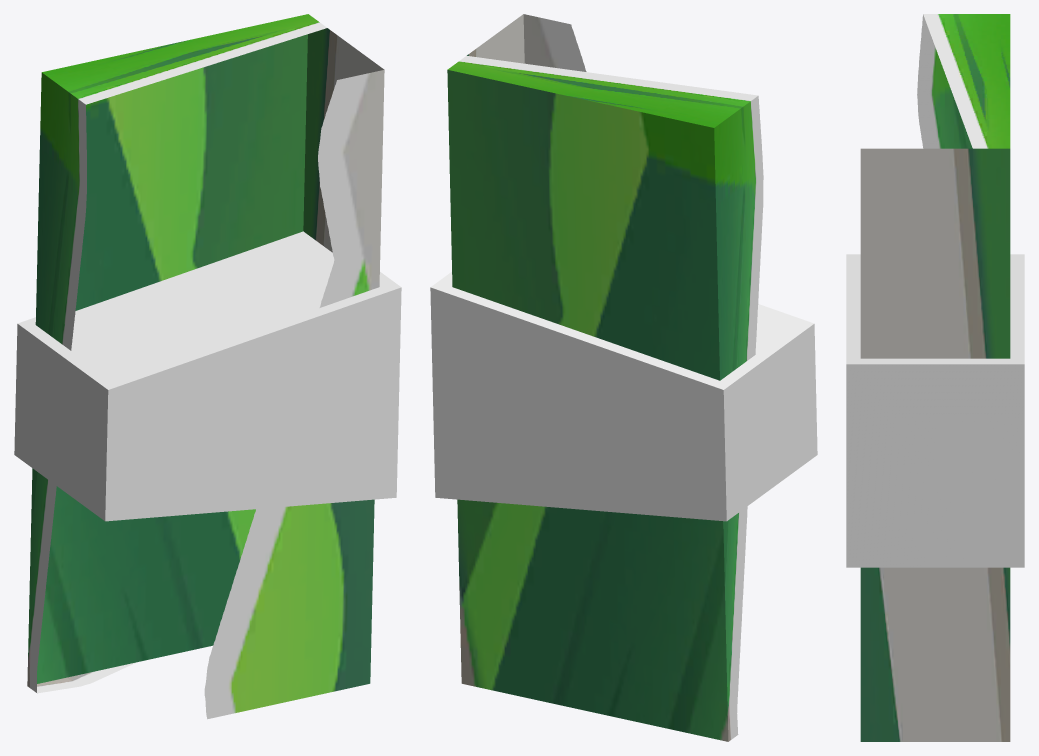
The model's file is Collectable_Coin_19.fbx.
3 renders of one model, left to right at view 1: azimuth 30°, elevation 25°; view 2: azimuth 150°, elevation 25°; view 3: azimuth 270°, elevation 25°, orthographic.
Visible parts, largest first — view 1: MoneyStack; view 2: MoneyStack; view 3: MoneyStack.
Part boxes in pixels (left/top/right/bottom): MoneyStack: left=14, top=14, right=401, bottom=719; MoneyStack: left=430, top=14, right=817, bottom=741; MoneyStack: left=846, top=14, right=1024, bottom=741.
Bounding box in the file's own units: 0.3597 × 0.7159 × 0.1909.
